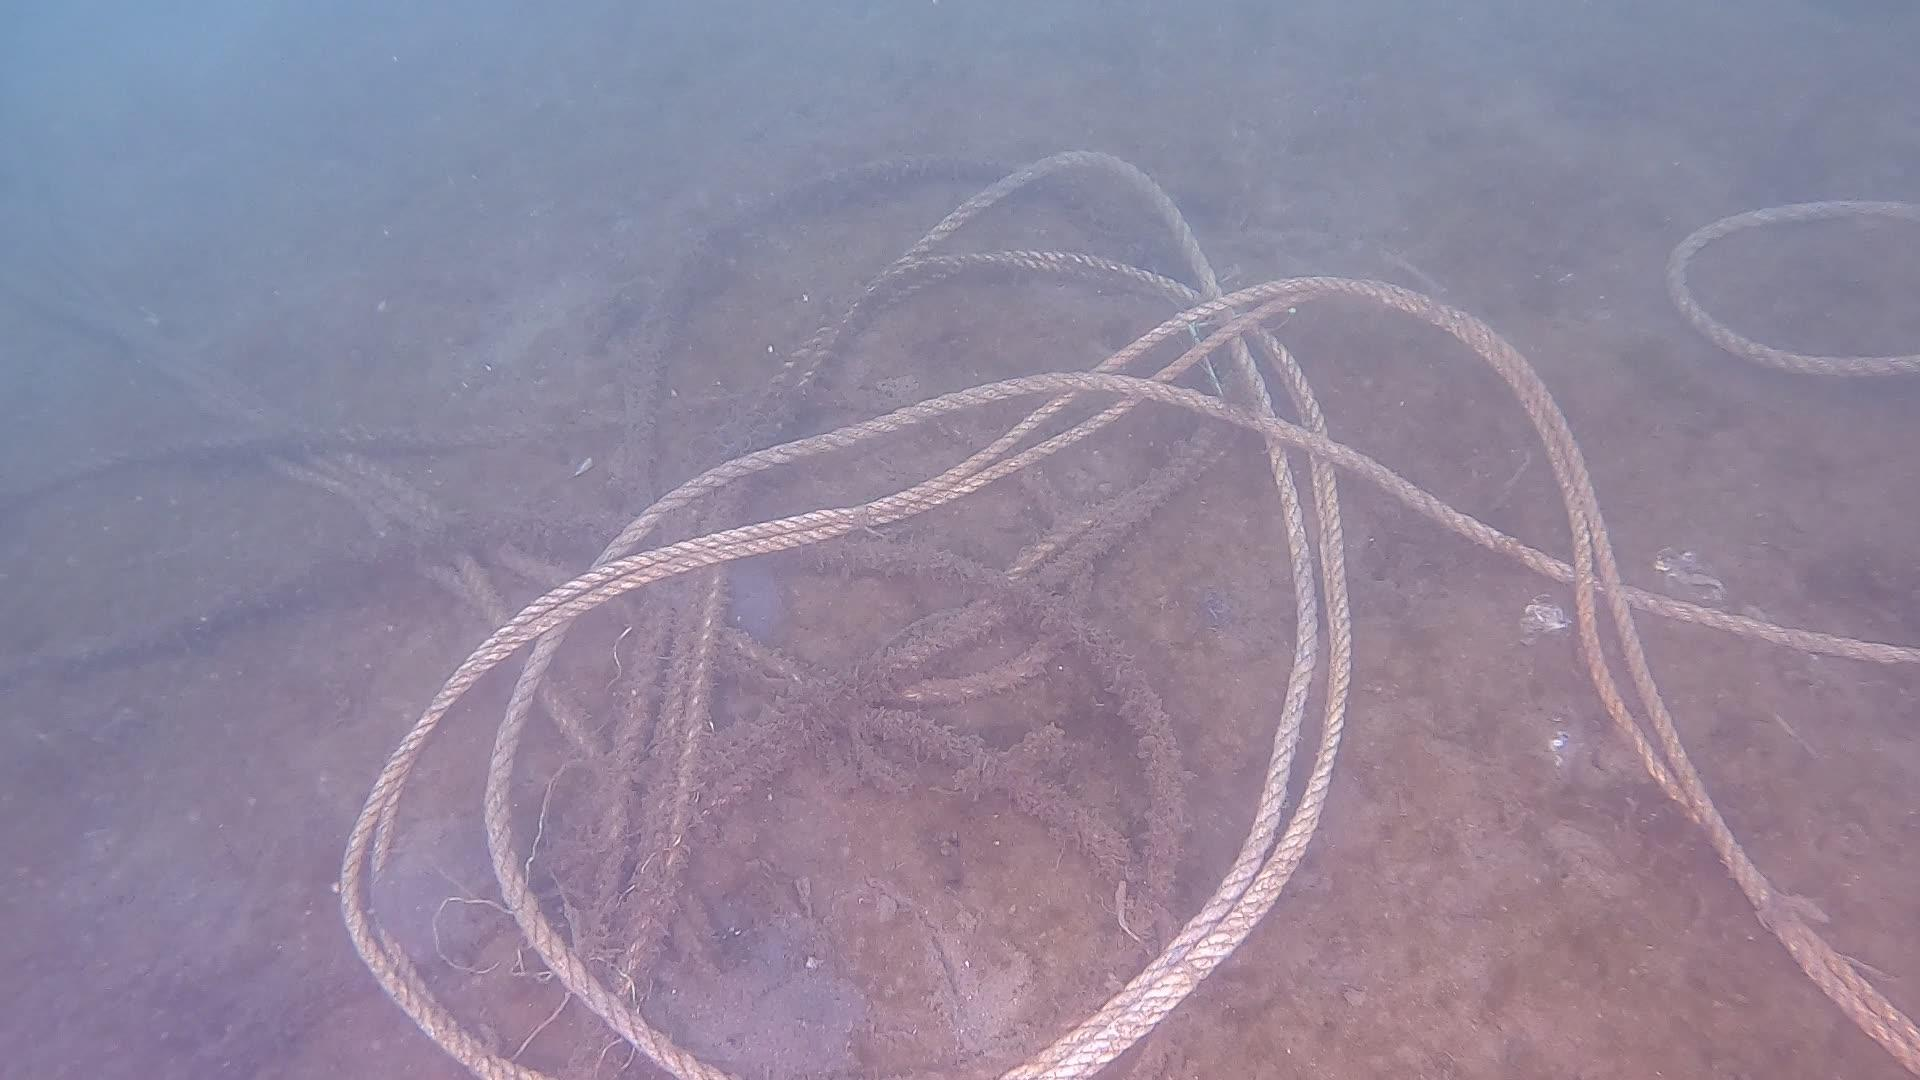bundle of ropes: (0, 142, 1920, 1080)
